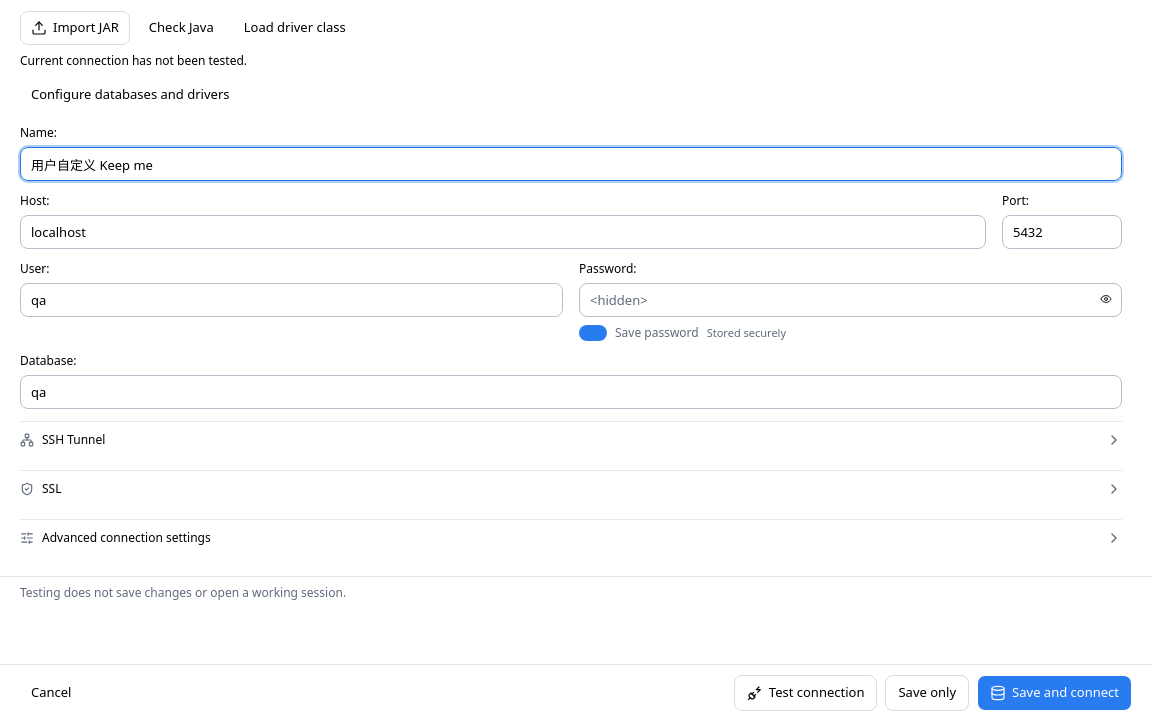
Test: immediately shows busy text, prevents duplicate tests and retains measured success without saving or connecting
Later steps or results of the test are not shown.
(page scrolled)
Click the button "Test connection".
click(806, 692)  # box [734,674,878,710]
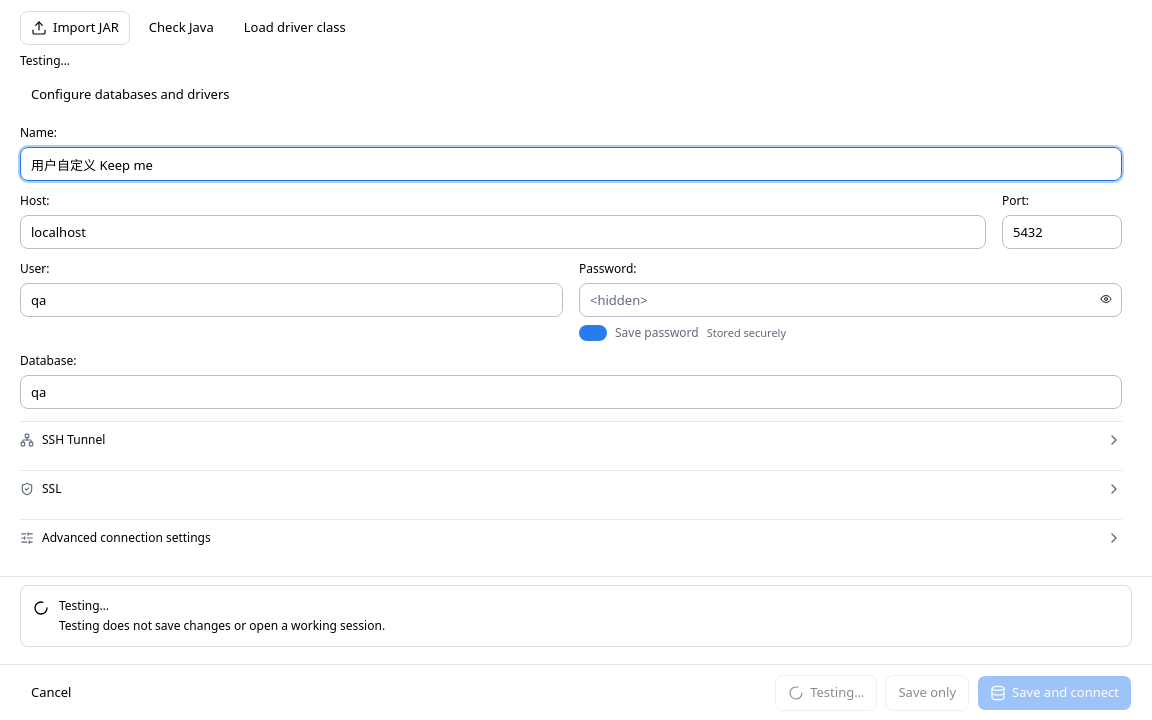
Now the button "Testing…" is disabled
Now the 2nd icon with class "animate-spin" is shown, box [788,684,804,700]
Click the button "Testing…".
click(826, 692)  # box [775,674,878,710]
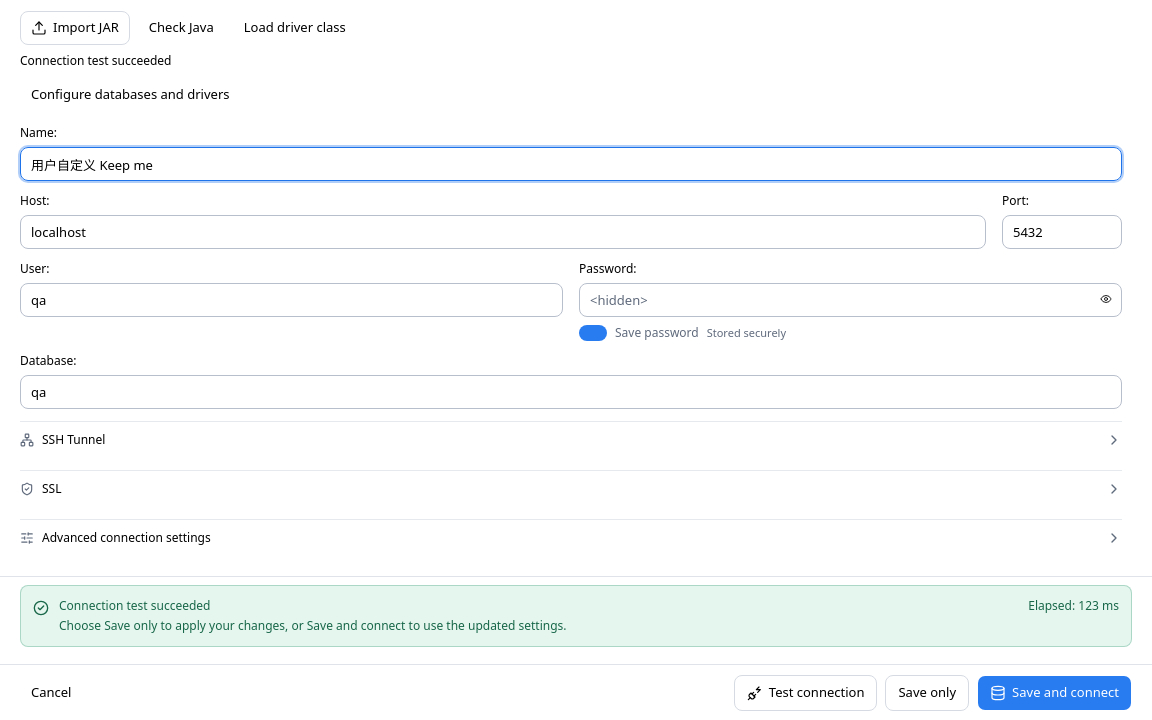
Now the element that starts with "Connection test succeeded" is shown, box [59,597,210,614]
Now the element that starts with "Connection test succeeded" shows "Choose Save only to apply your changes, or Save and connect to use the updated settings.", box [59,617,566,634]
Now the button "Save only" is enabled, box [886,674,969,710]
